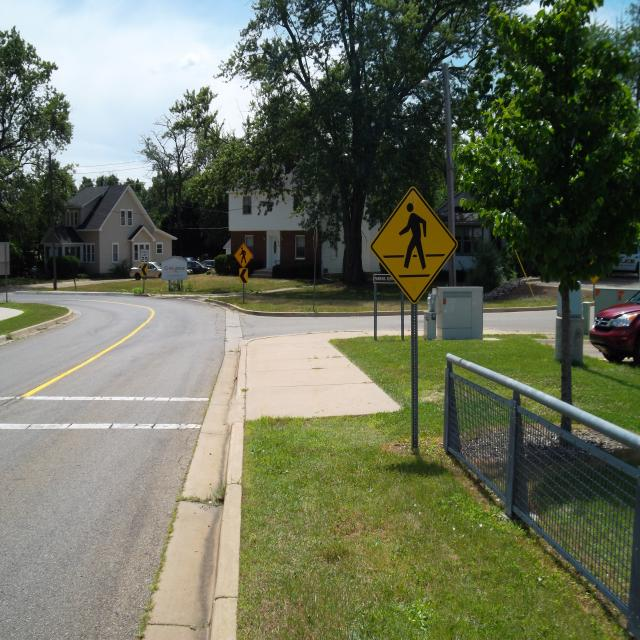regulatory: (141, 249, 148, 264)
warning: (372, 187, 458, 303), (234, 243, 253, 268), (239, 268, 248, 284), (142, 264, 148, 276)
